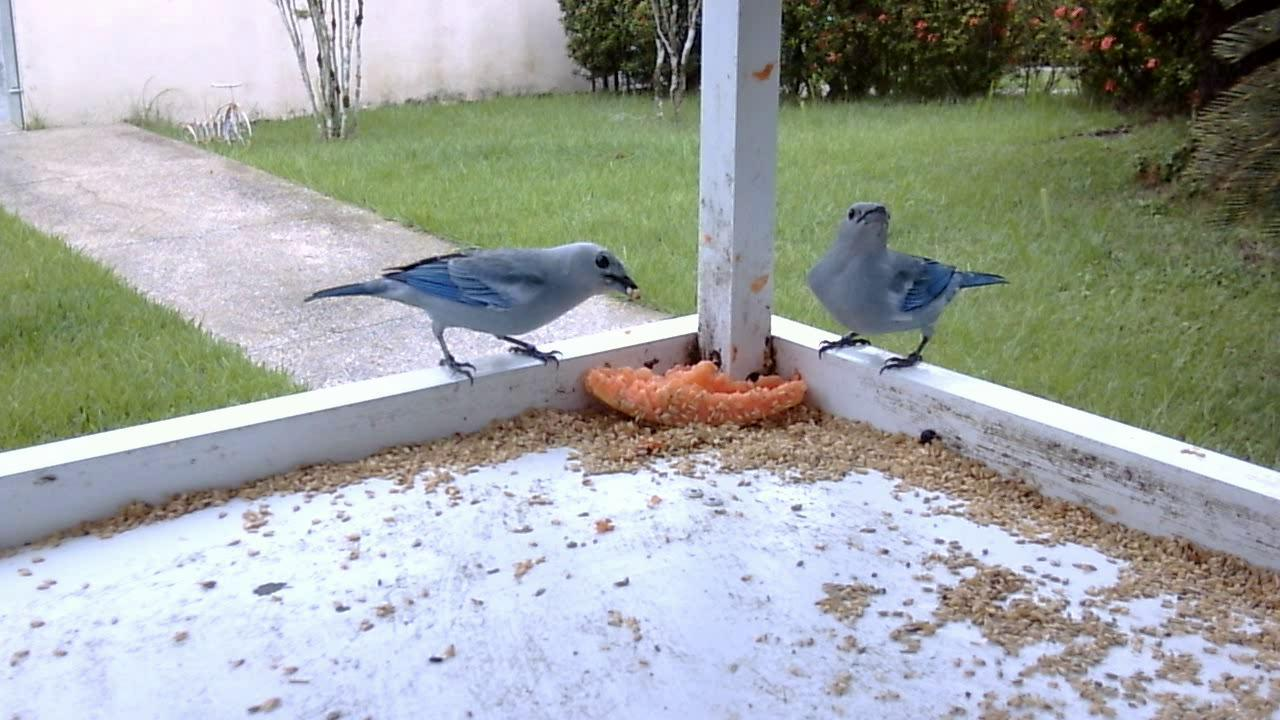sanhaco_da_amazonia: (304, 223, 644, 392), (796, 201, 1013, 379)
